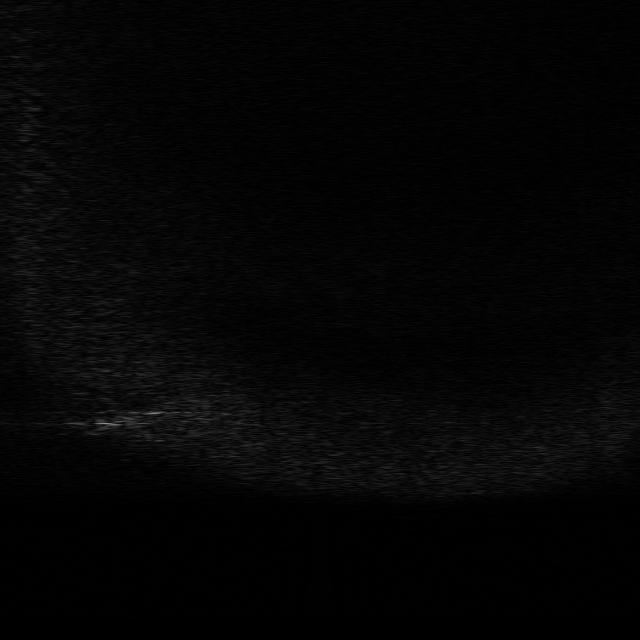plane: (65, 396, 165, 442)
